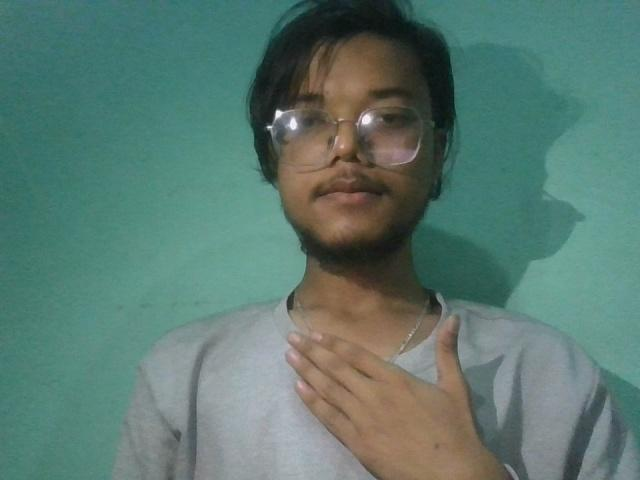Please: (213, 282, 554, 479)
